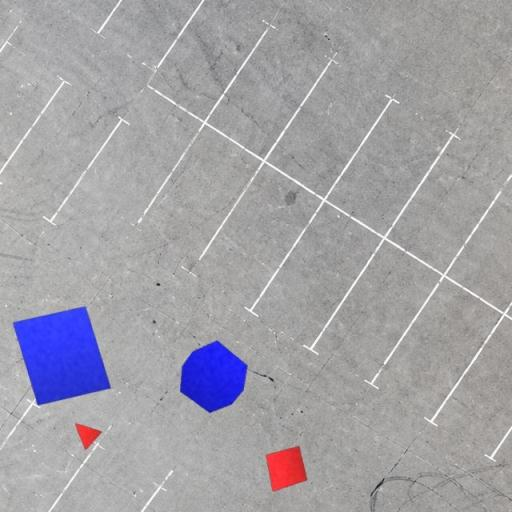BLUE_SQUARE: (12, 306, 111, 406)
RED_SQUARE: (265, 445, 308, 492)
